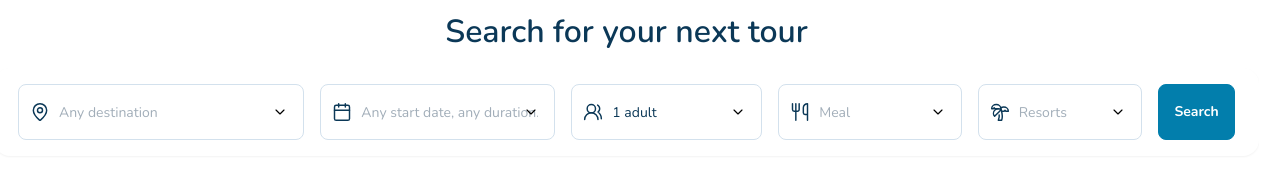
Test: ToursFilterPanel Component › resets filters when clicking Reset button
Type "Greece" into the field with placeholder "Any destination" at (161, 112), box [18,84,304,140]
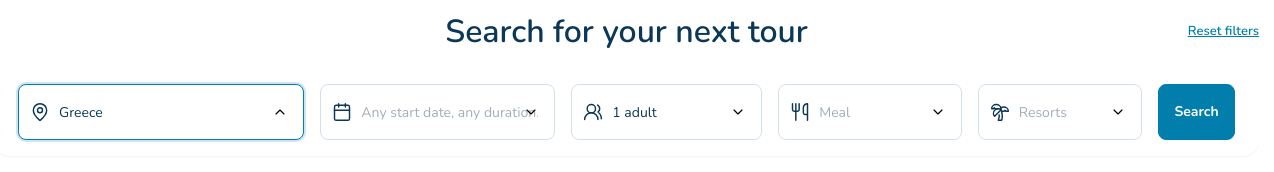
Click the button with test id "filter-reset-btn" at (1223, 32), box [1188,22,1259,42]
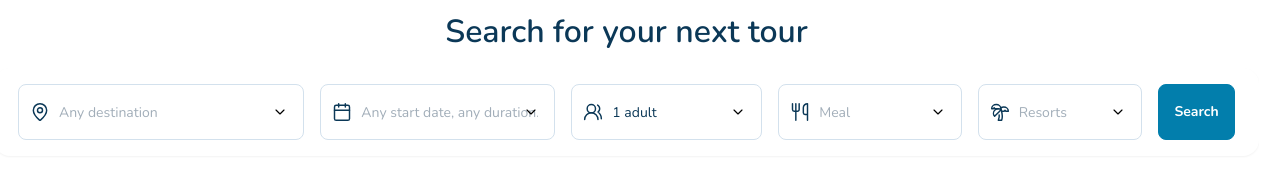
Expected: the field with placeholder "Any destination" is empty, [18,84,304,140]
